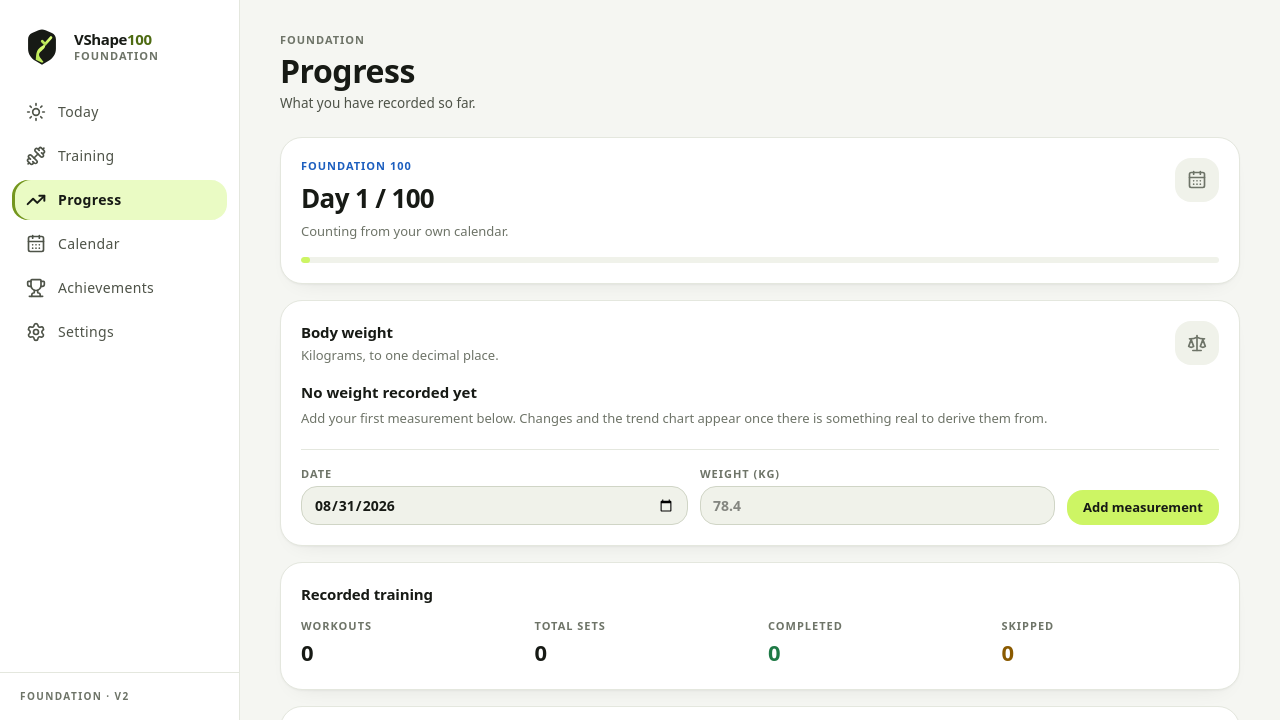
E. work in progress › keeps an error message visible rather than resetting the form
This screenshot has width=1280, height=720.
Expected: the heading "Progress" is shown, [280,48,415,92]
In the number field labelled "Weight (kg)": coordinates (878, 506) [700,486,1055,525], type "78.45"
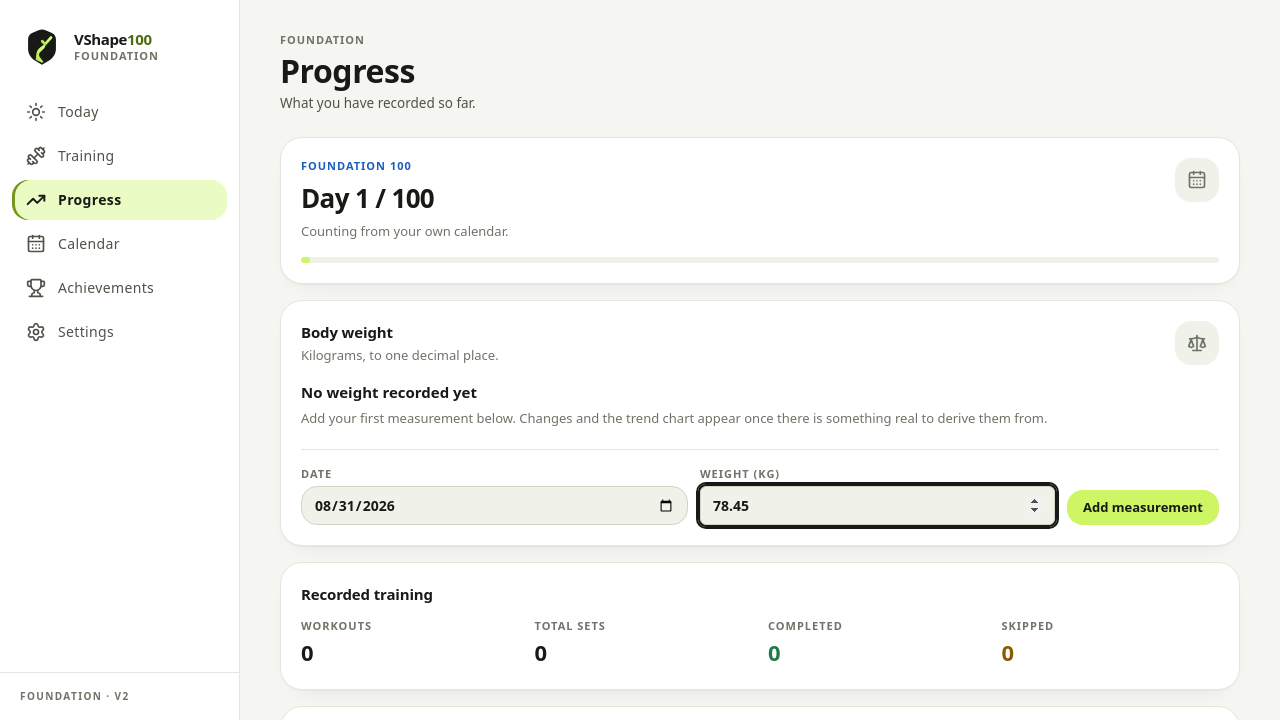
Click the button "Add measurement": coordinates (1143, 508) [1067,490,1219,525]
Wait 89810 ms
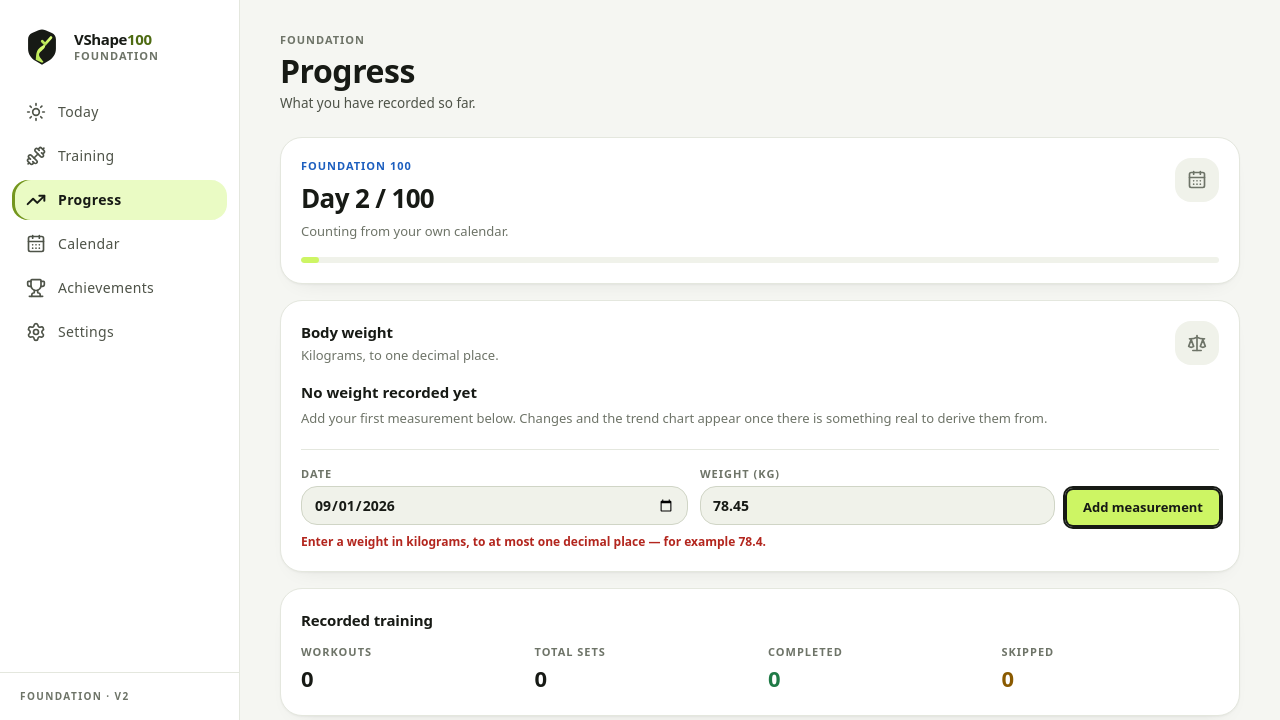
Result: the message "Enter a weight in kilograms, to at most one decimal place — for example 78.4." is shown at [301,533,766,550]
Result: the date field labelled "Date" holds "2026-09-01" at [301,486,688,525]
